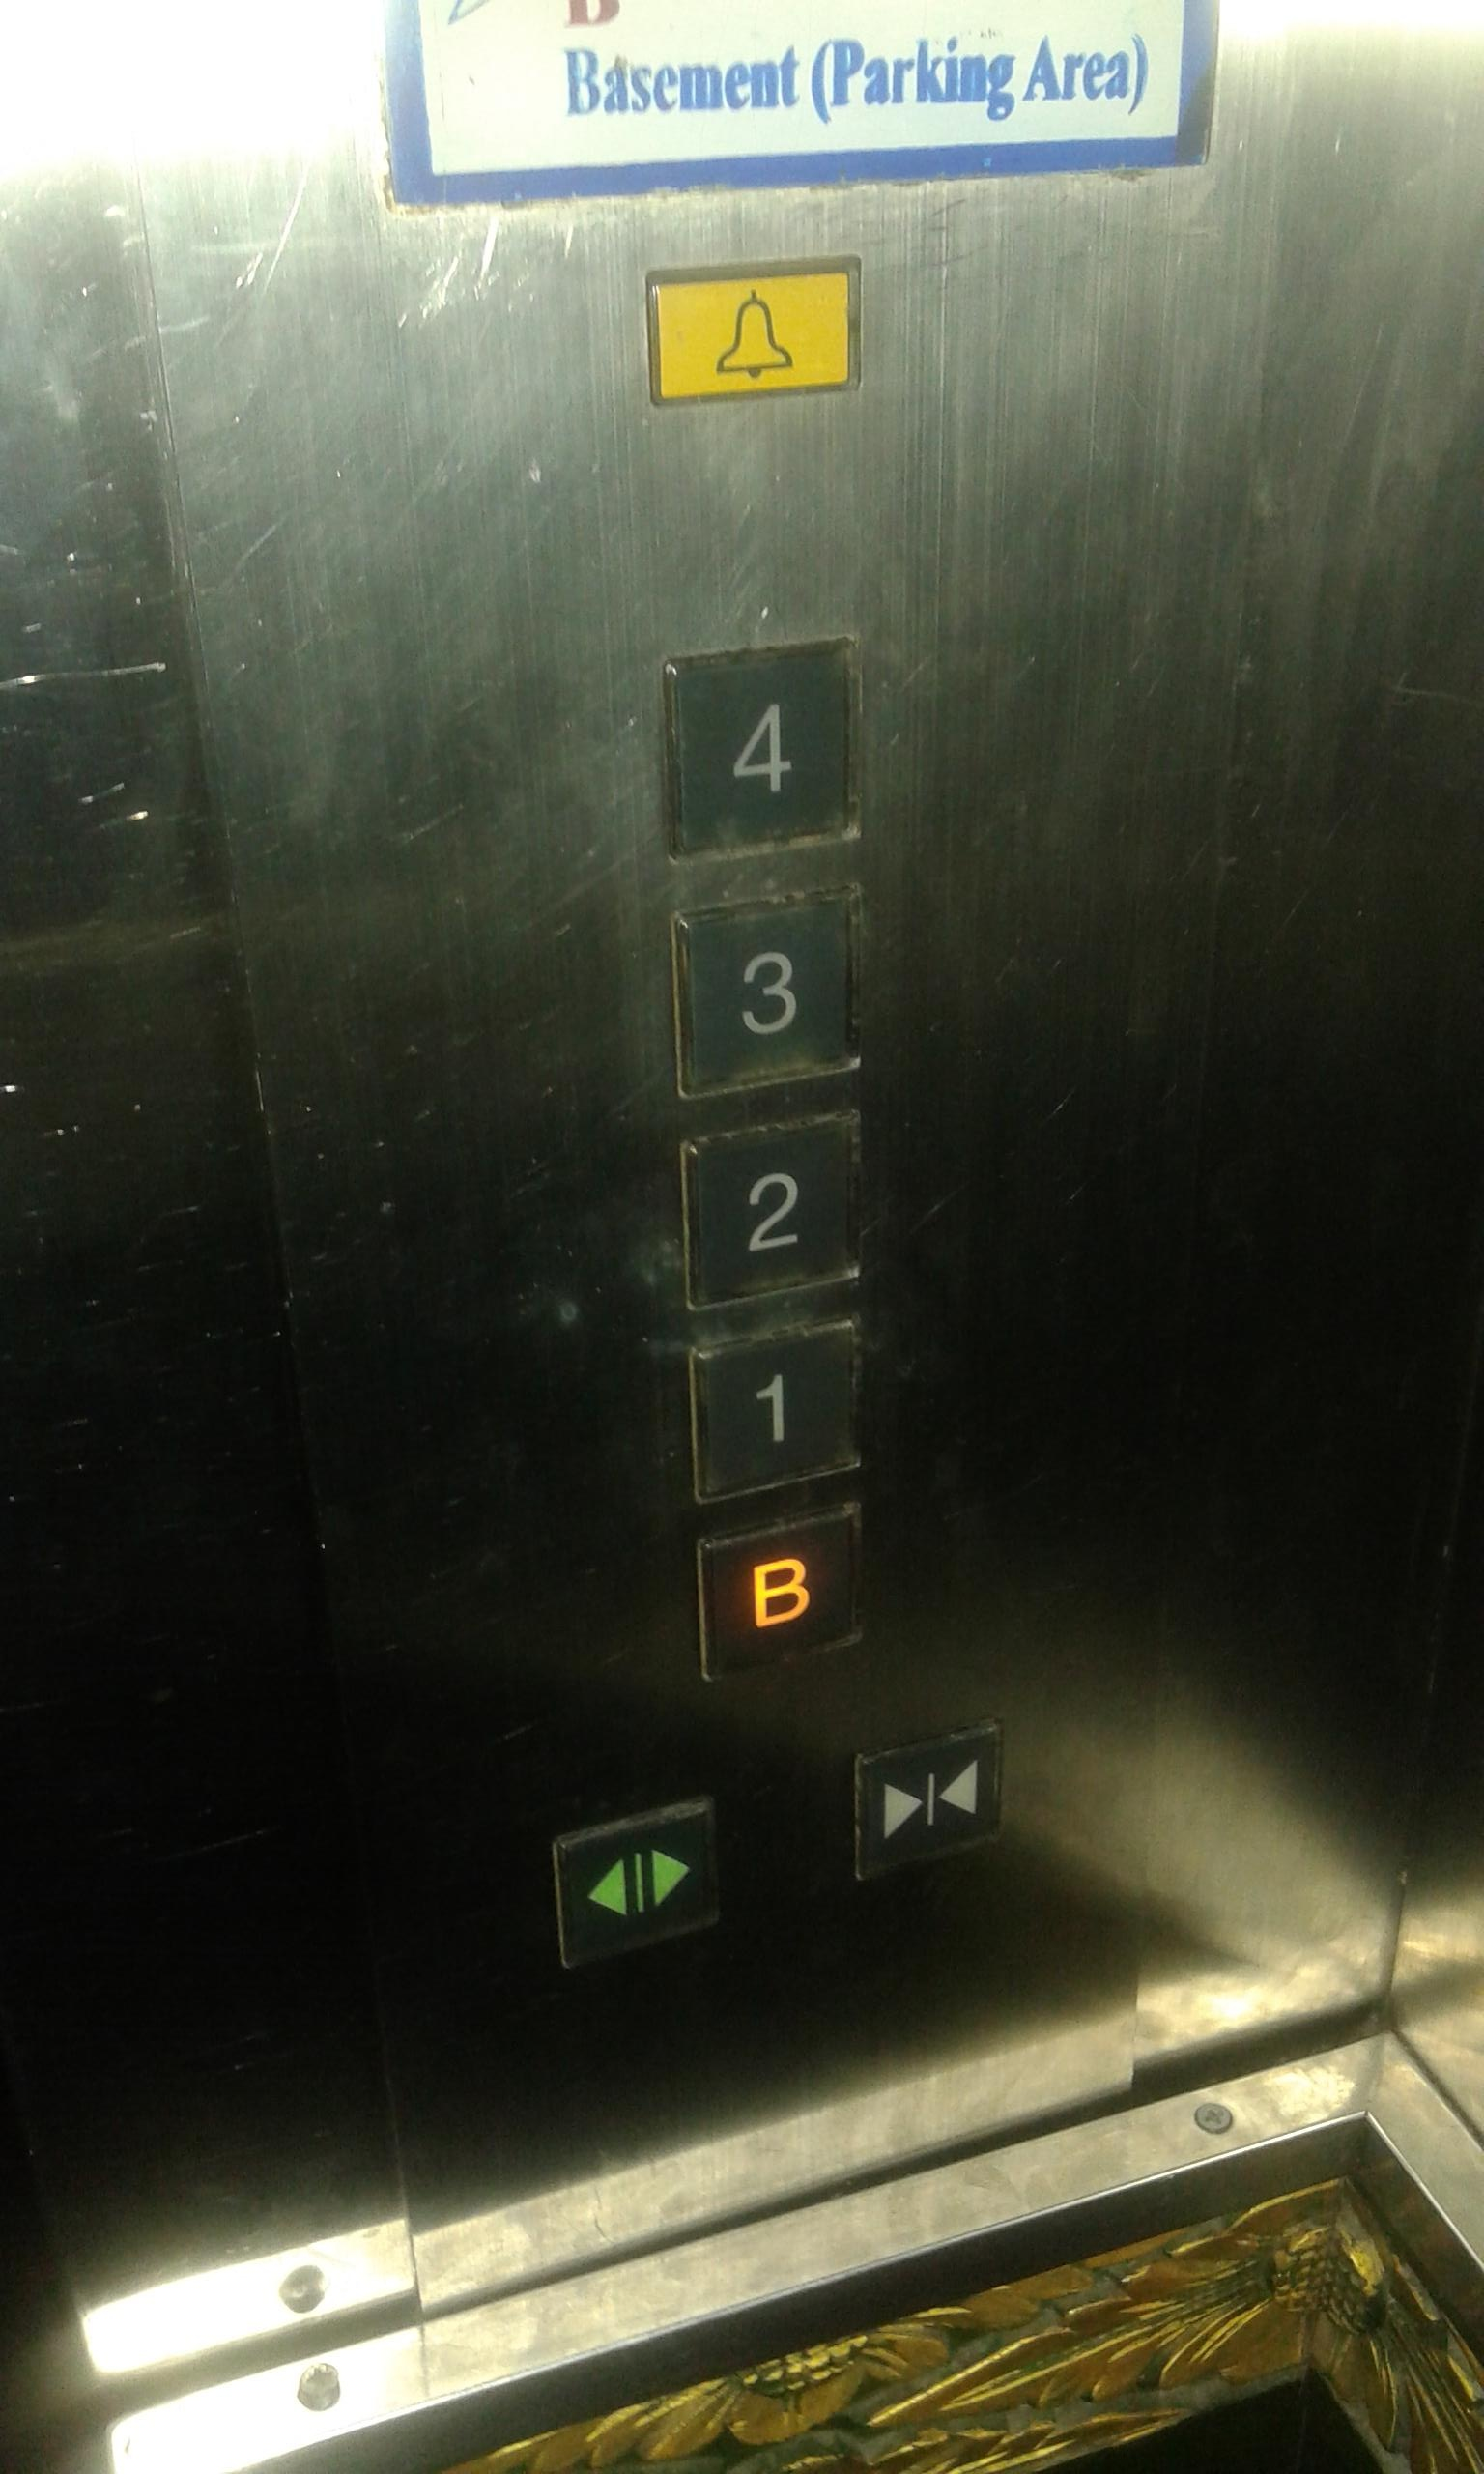1: (678, 1311, 869, 1511)
2: (671, 1101, 871, 1320)
3: (664, 875, 871, 1106)
4: (654, 627, 866, 869)
B: (689, 1497, 869, 1686)
alarm: (636, 249, 869, 419)
close: (843, 1712, 1012, 1891)
open: (541, 1787, 728, 1979)
